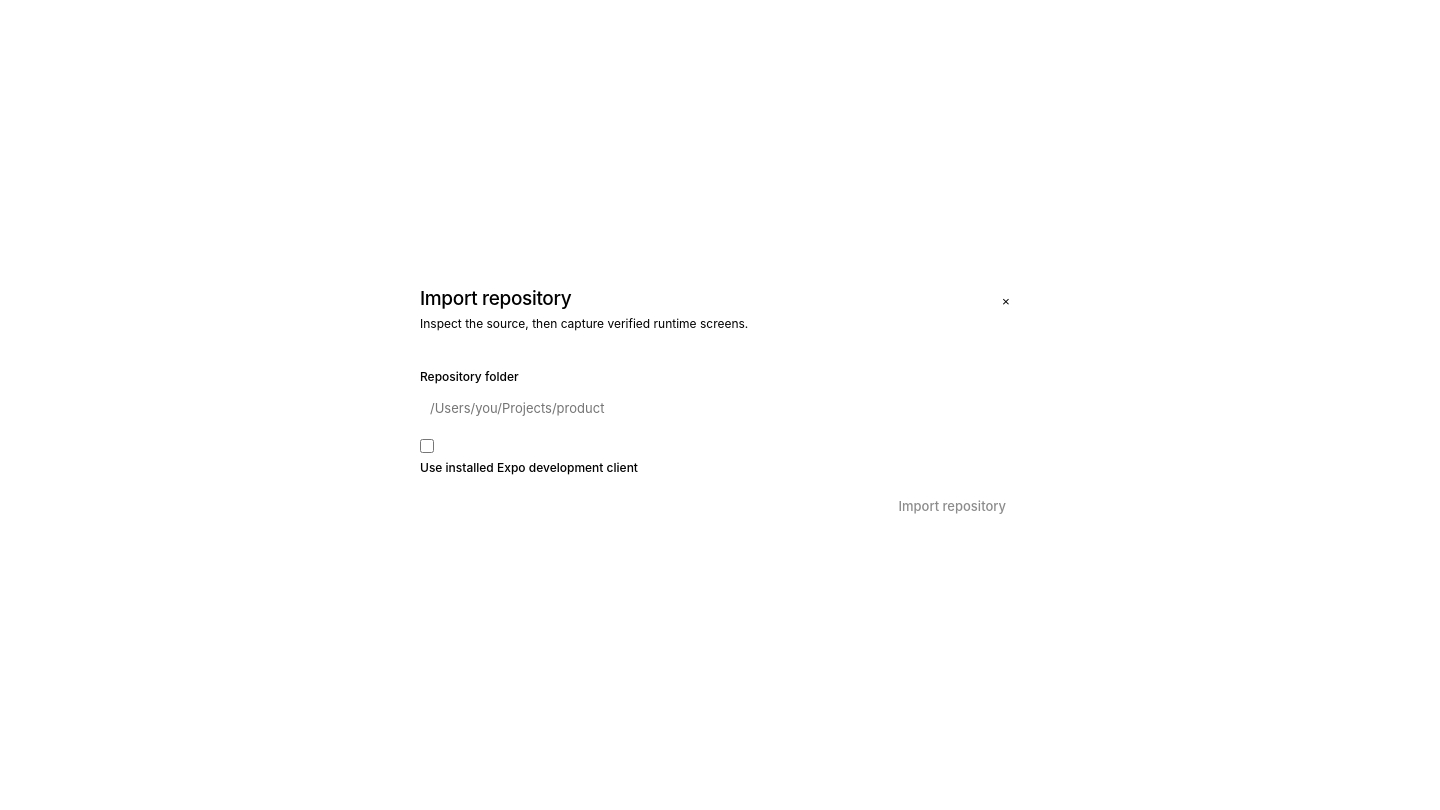
RepositoryImportDialog › keeps long reviewed command paths visually compact until expanded
In the field labelled "Repository folder": (716, 408) [420, 391, 1012, 425], type "/Projects/northstar"
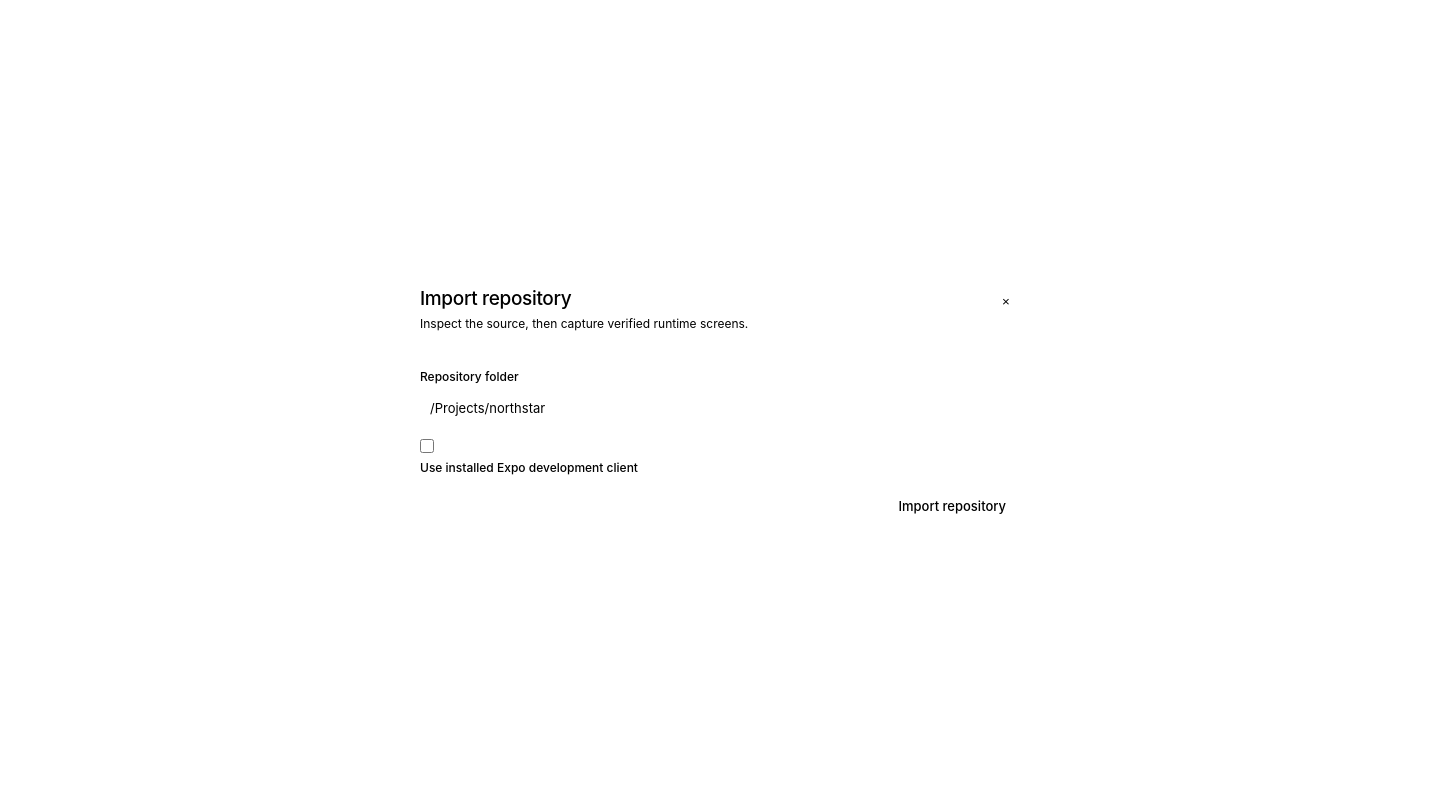
Click the button "Import repository": (952, 506) [884, 489, 1020, 523]
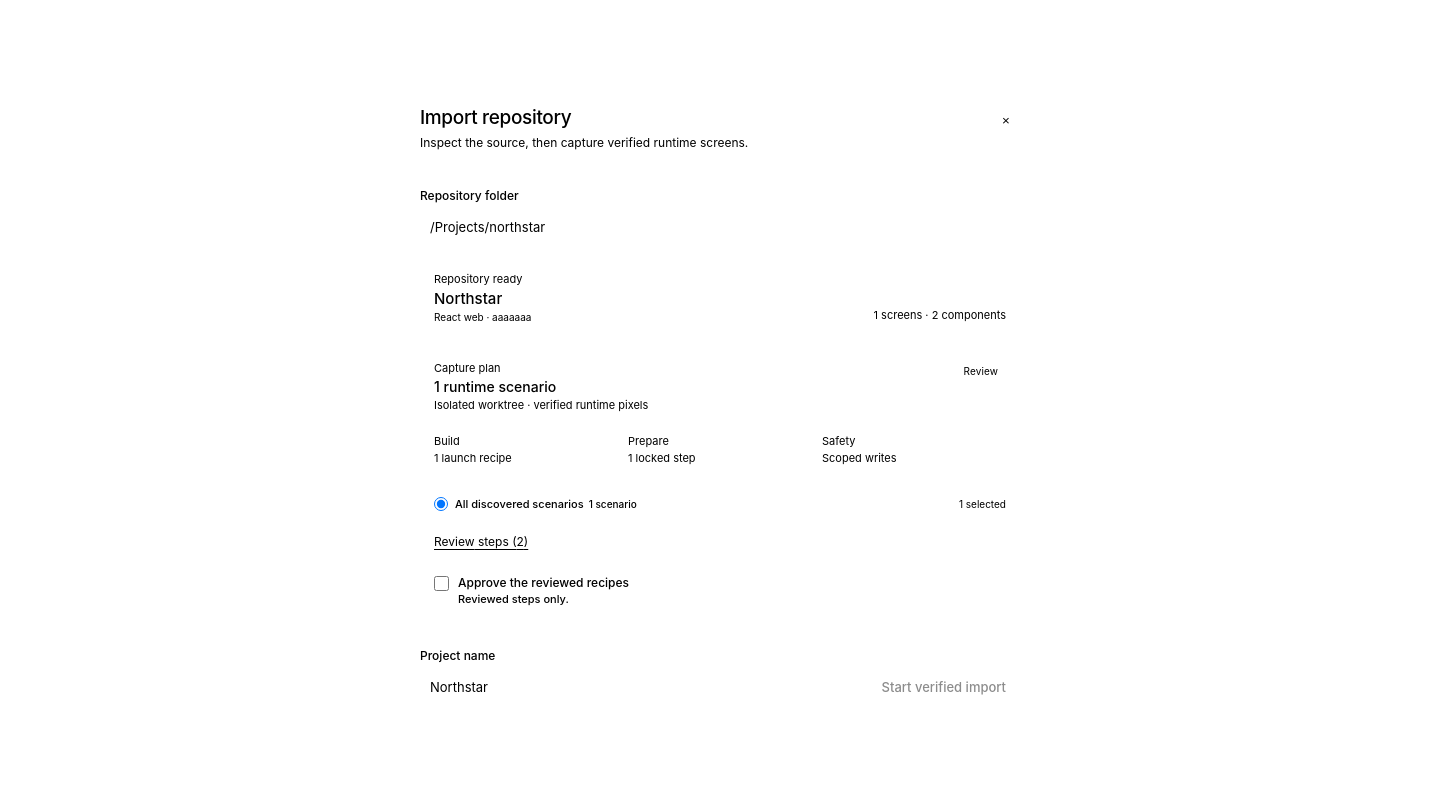
Check: the text "Northstar" is shown, box [434, 289, 502, 308]
Click the button "Review steps (2)": (481, 541) [434, 532, 528, 551]
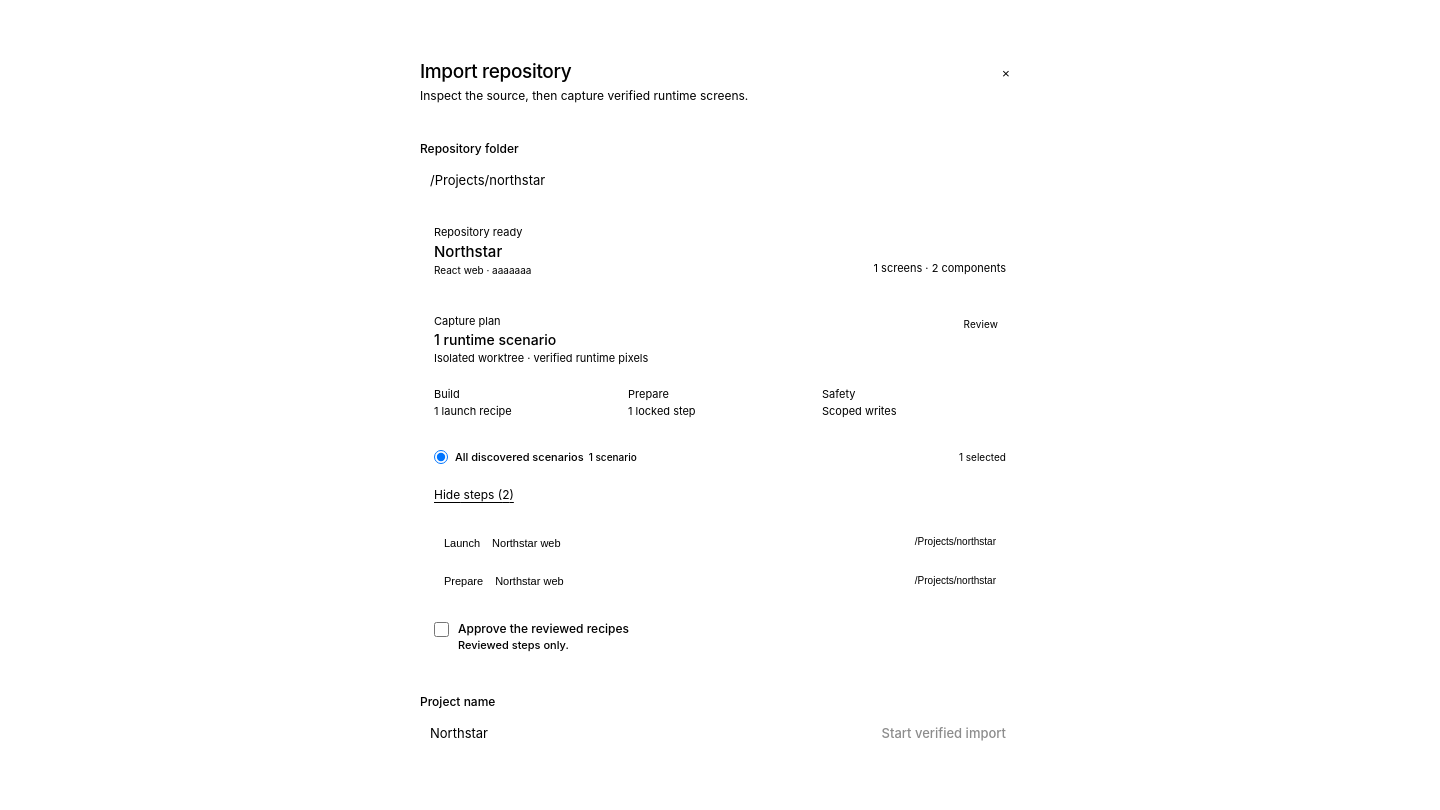
Check: the text "Northstar web" is shown 2 times, box [492, 537, 561, 549]; [495, 575, 564, 587]
